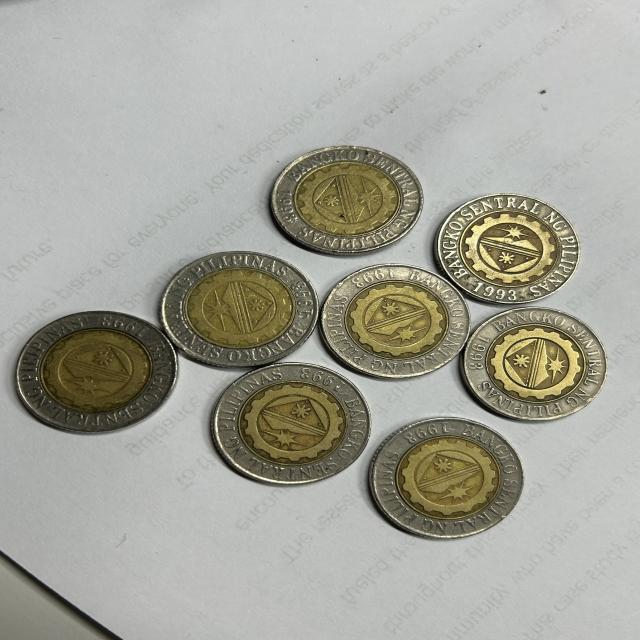10_Old_Back: (374, 422, 527, 542), (24, 318, 166, 429), (221, 371, 368, 473), (167, 262, 314, 363), (328, 272, 466, 377), (266, 152, 412, 250), (444, 198, 582, 292), (473, 321, 603, 411)
